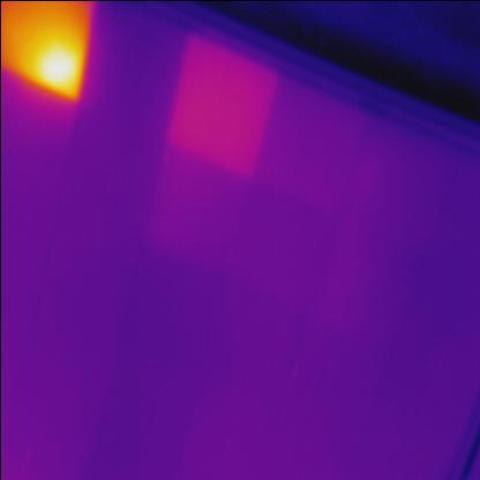fault: (42, 46, 90, 92)
